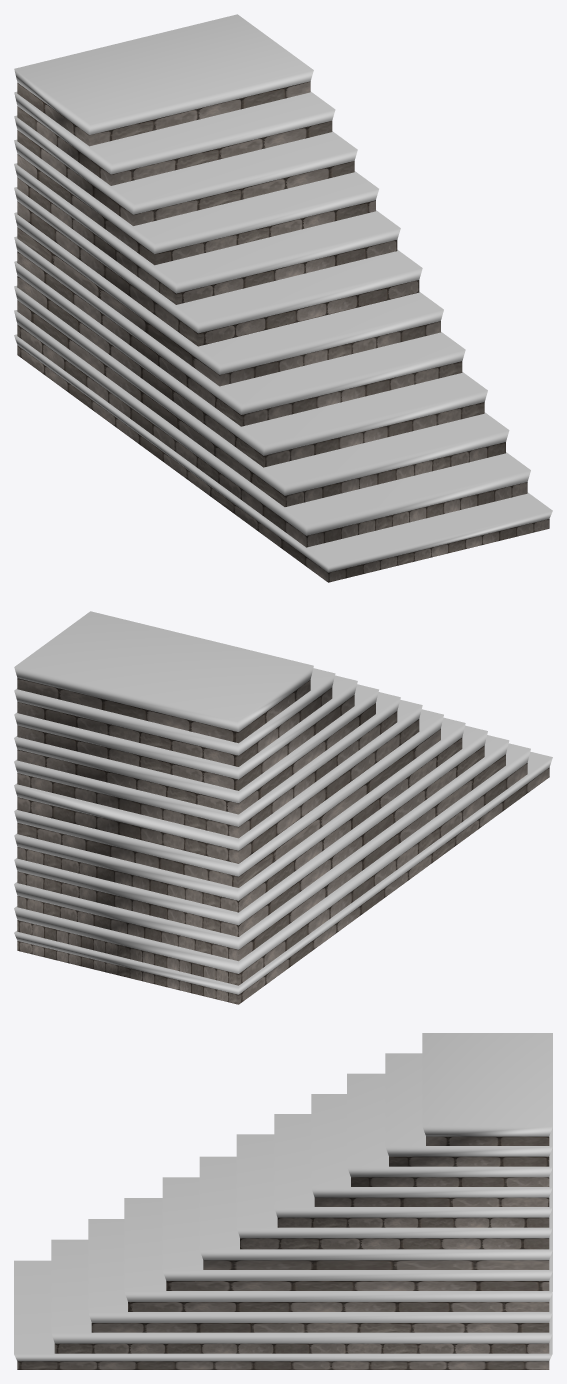
The model's file is StaircaseLarge_1.fbx.
3 views of the same model, one above another, from view 1: azimuth 30°, elevation 25°; view 2: azimuth 150°, elevation 25°; view 3: azimuth 270°, elevation 25° (orthographic). The views are drawn at different scales.
Visible parts, largest first — view 1: Mesh; view 2: Mesh; view 3: Mesh.
Part boxes in pixels (left/top/right/bottom): Mesh: left=14, top=14, right=552, bottom=582; Mesh: left=14, top=611, right=552, bottom=1004; Mesh: left=14, top=1033, right=552, bottom=1369.
Bounding box in the file's own units: 195 × 237 × 474.
